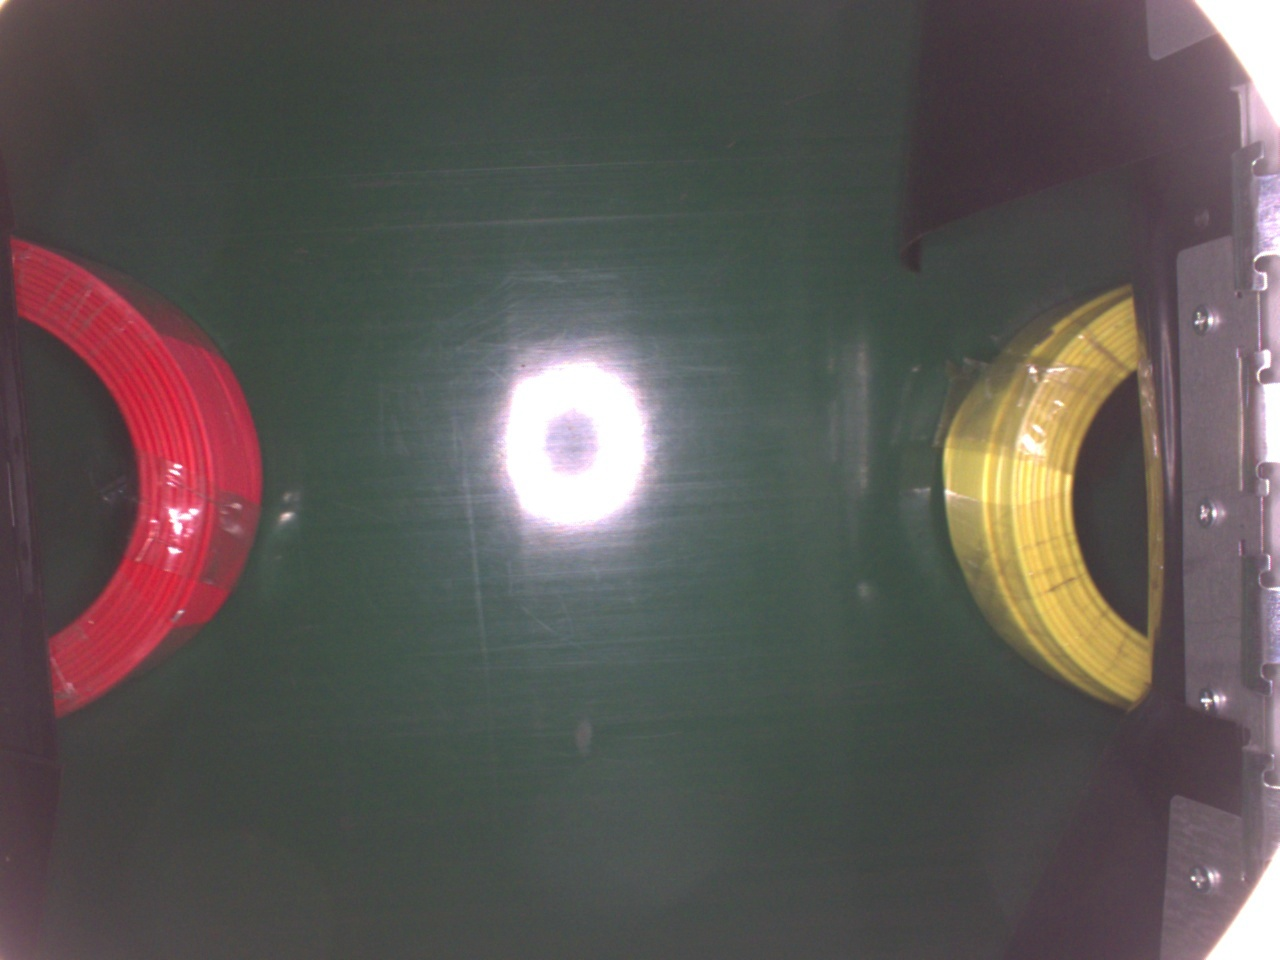red: (8, 233, 266, 720)
yellow: (938, 280, 1148, 712)
